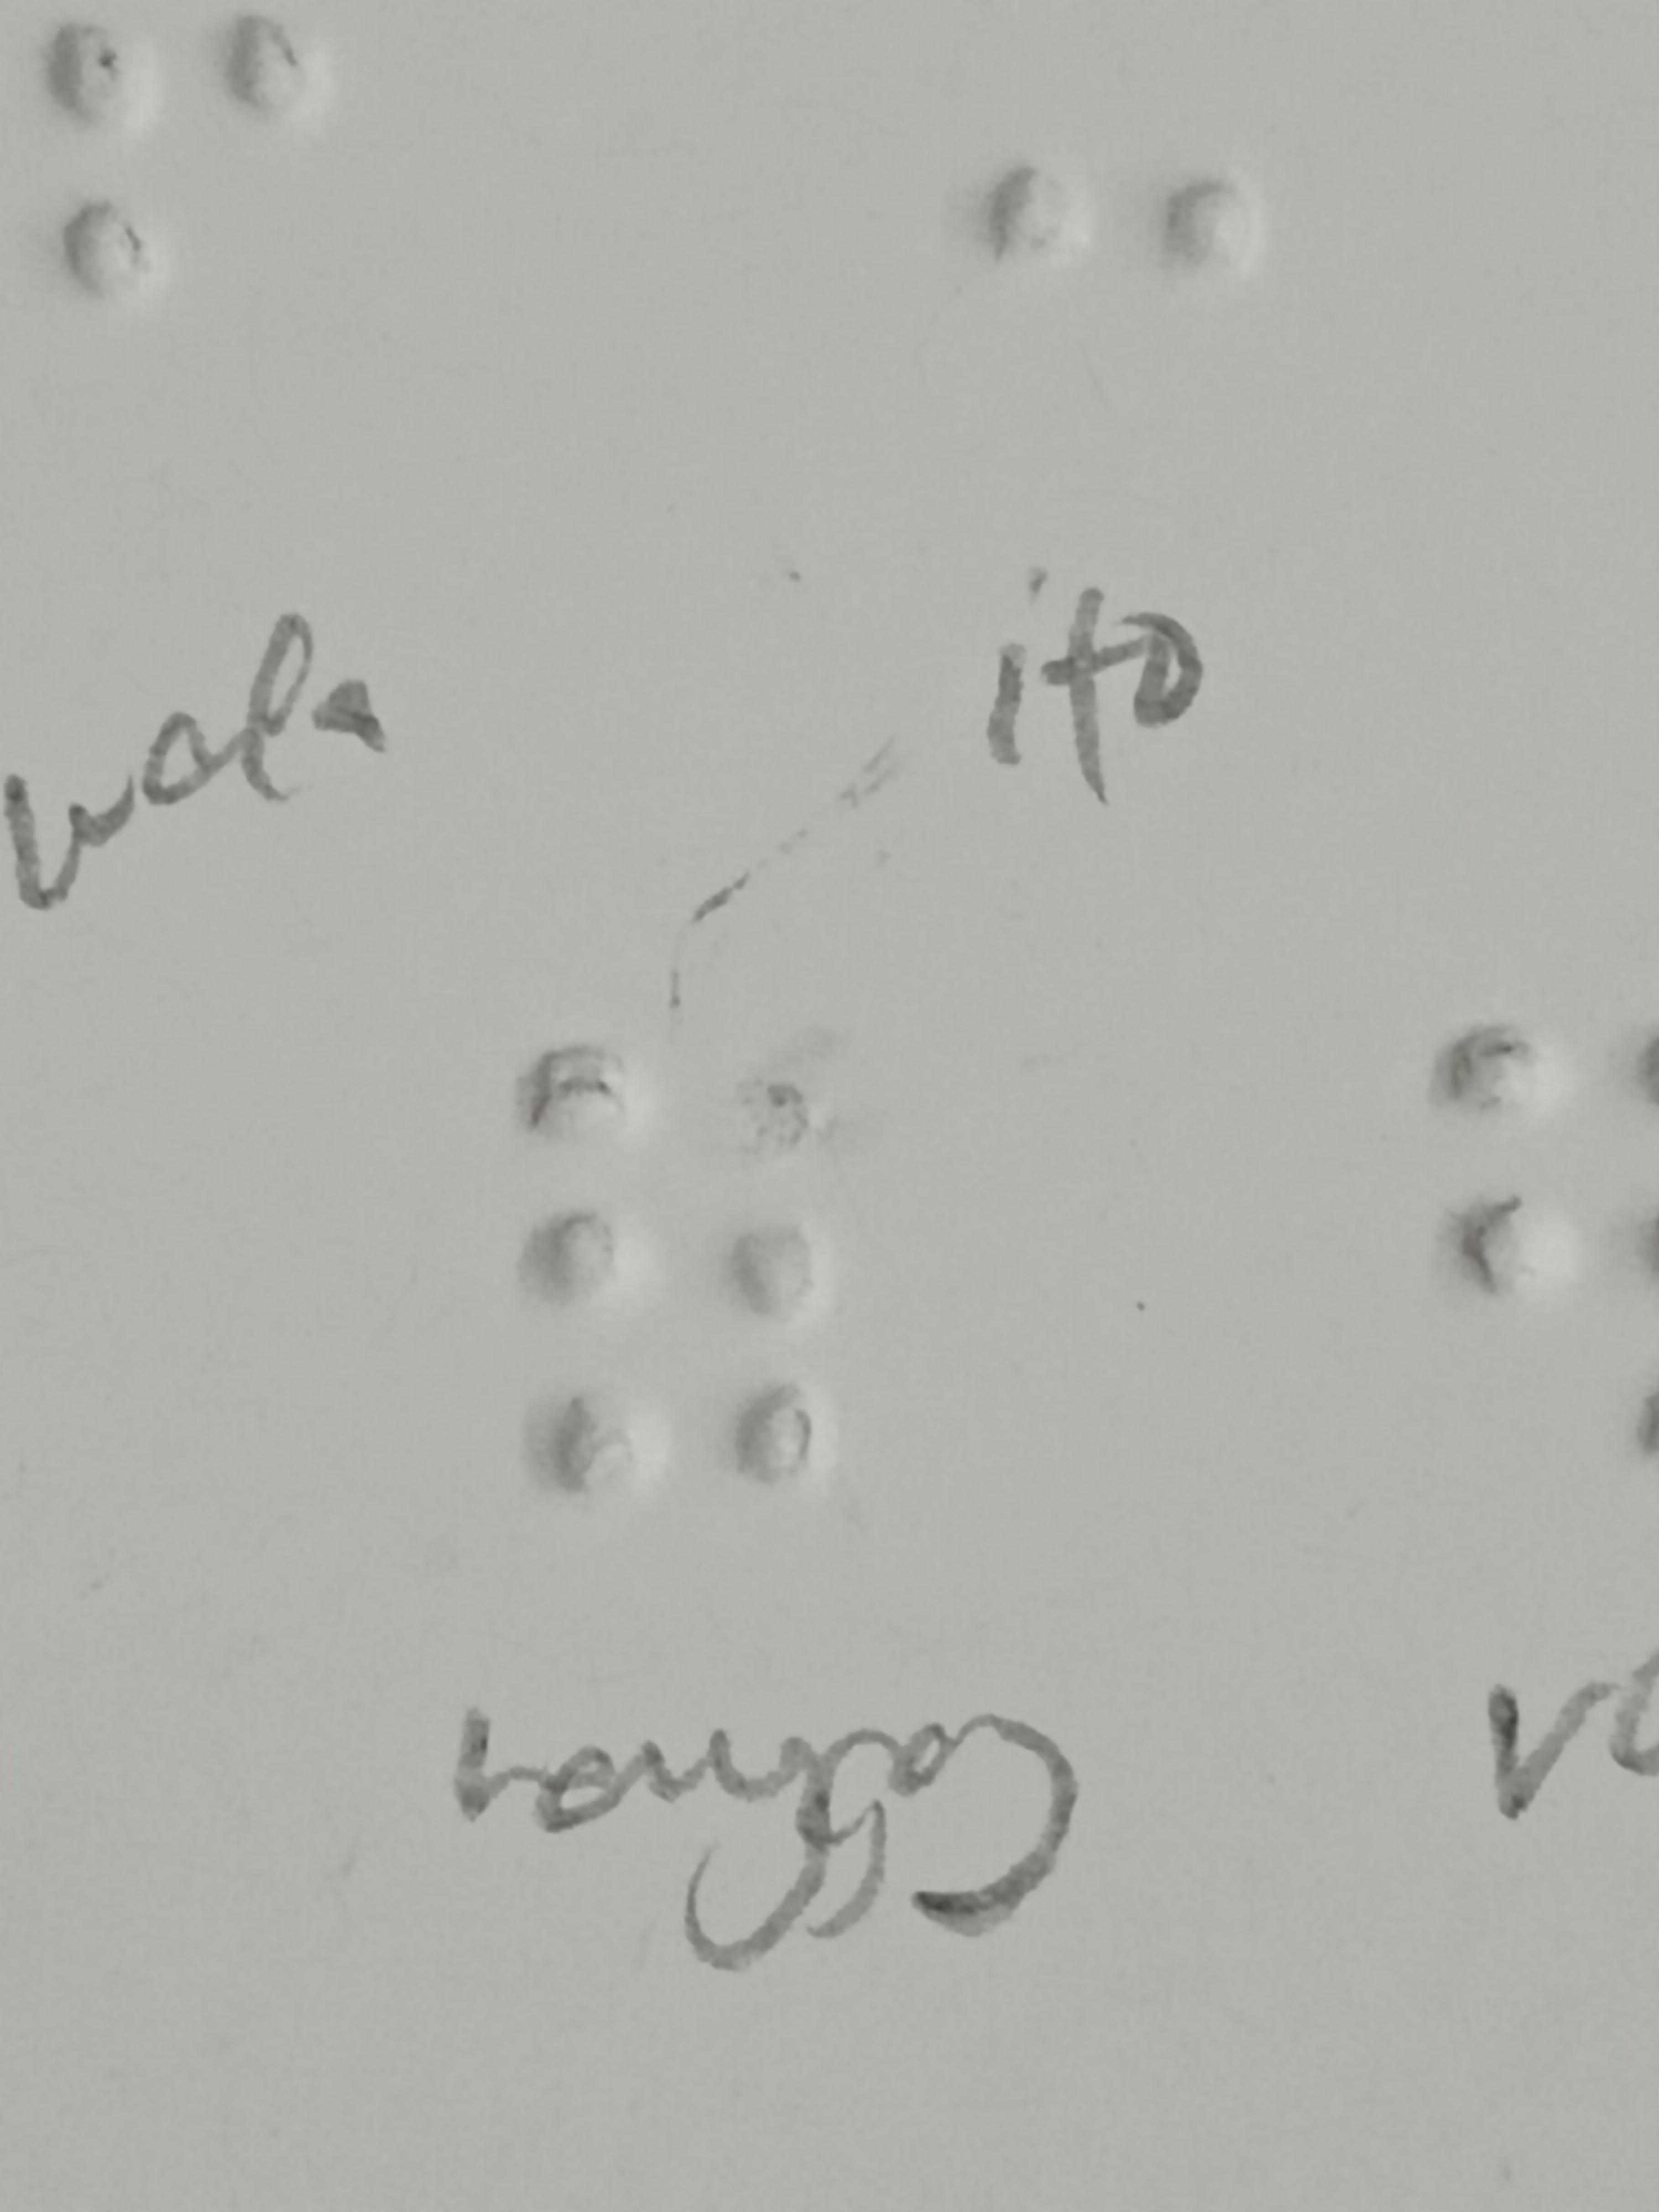one_cell_non_alphabet_hanggang: (511, 1035, 842, 1512)
